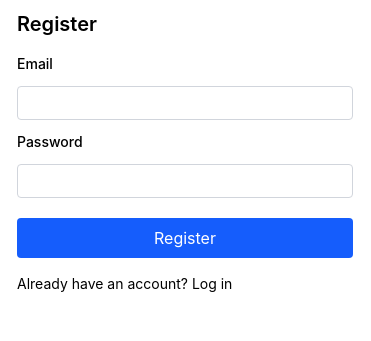
Register page › shows a specific 'too many attempts' message on a 429 response
Type "carol@example.com" into the field labelled "Email". click: coordinates (185, 103)
box: x1=17 y1=86 x2=353 y2=120
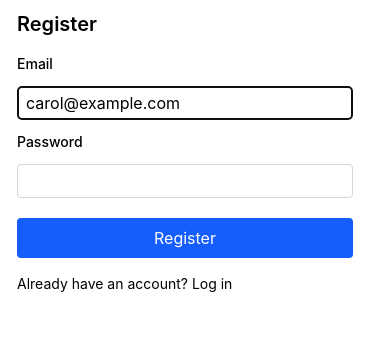
Type "Str0ngP@ssw0rd!" into the password field labelled "Password". click: coordinates (185, 181)
box: x1=17 y1=164 x2=353 y2=198
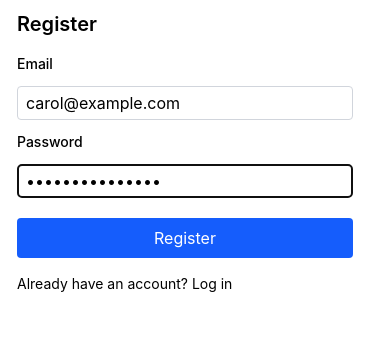
Click the button "Register". click: coordinates (185, 238)
box: x1=17 y1=218 x2=353 y2=258
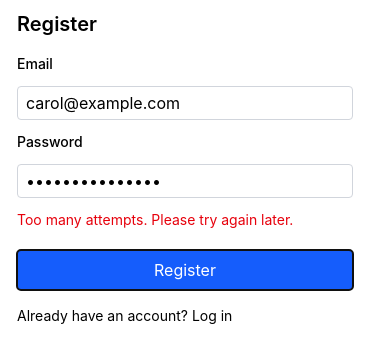
Result: the text "Too many attempts. Please try again later." is shown at x1=17 y1=211 x2=293 y2=228
